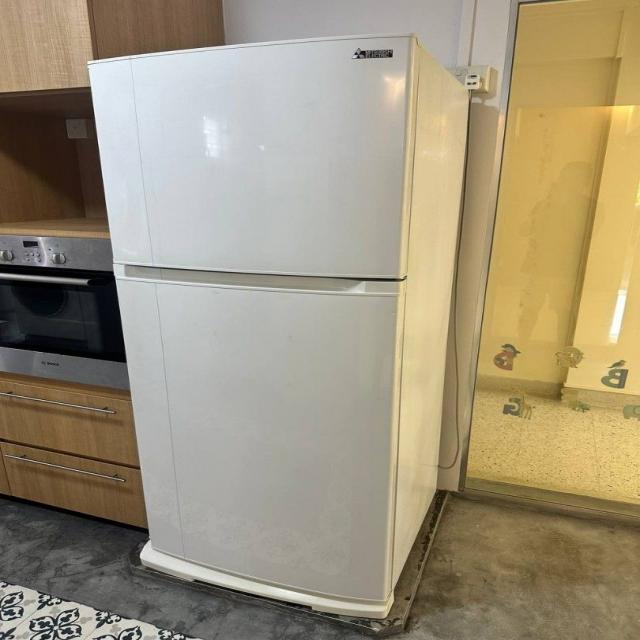refrigerator: (90, 33, 419, 627)
